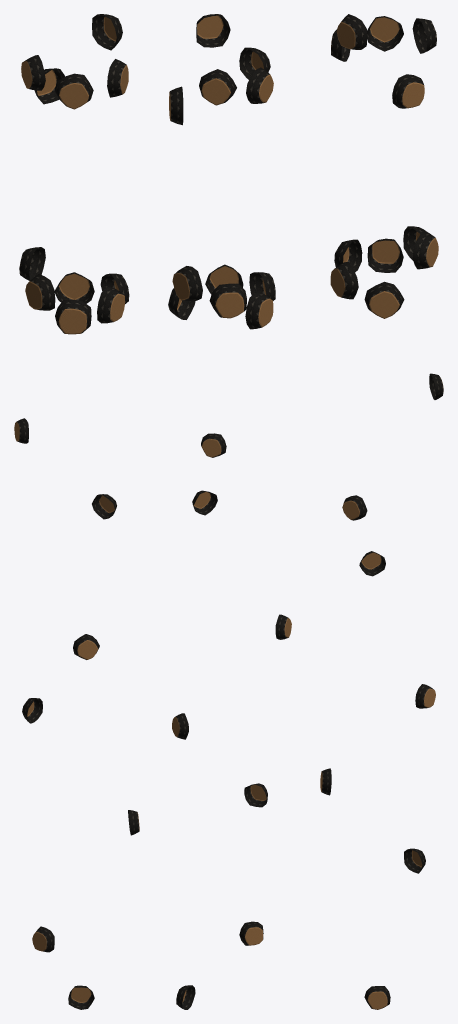
File: Sitka_OldLarge_02_MediumPruned_Recent_LOD1.fbx
The picture shows the model from 3 angles, left to right: view 1: azimuth 90°, elevation 25°; view 2: azimuth 150°, elevation 25°; view 3: azimuth 270°, elevation 25°; orthographic projection.
Visible parts, largest first — view 1: Sitka_OldLarge_02_MediumPruned_Recent_LOD1_Scars; view 2: Sitka_OldLarge_02_MediumPruned_Recent_LOD1_Scars; view 3: Sitka_OldLarge_02_MediumPruned_Recent_LOD1_Scars.
Boxes of the visible parts, box(x1,y1,x2,y2) form: Sitka_OldLarge_02_MediumPruned_Recent_LOD1_Scars: box(14, 14, 139, 1009); Sitka_OldLarge_02_MediumPruned_Recent_LOD1_Scars: box(168, 14, 291, 1009); Sitka_OldLarge_02_MediumPruned_Recent_LOD1_Scars: box(320, 14, 443, 1009).
Size of what is drawn, in the model's own units: 69.58 by 607 by 68.93.
2 materials, 2 textured.
